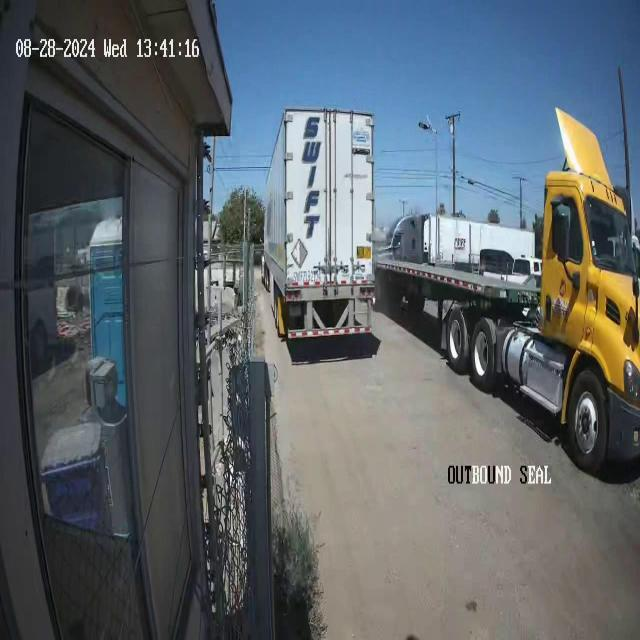TRUCK_IN: (373, 69, 639, 478)
TRUCK_OUT: (258, 103, 369, 355)
